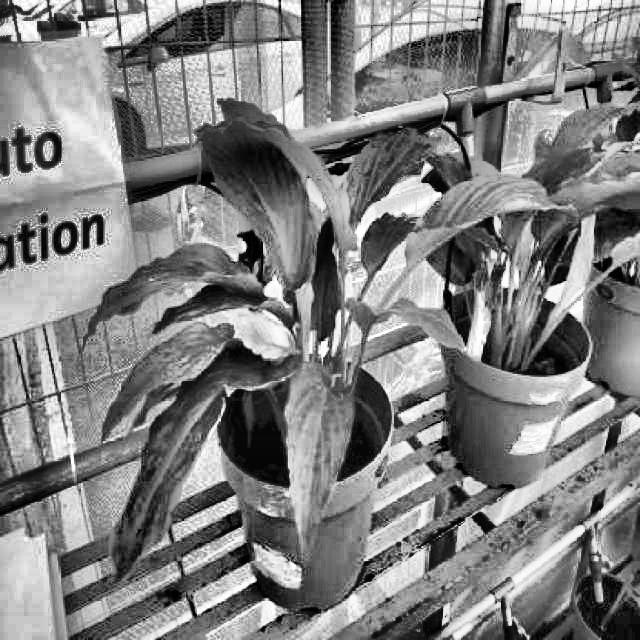plants: (78, 95, 538, 576), (387, 90, 640, 387)
